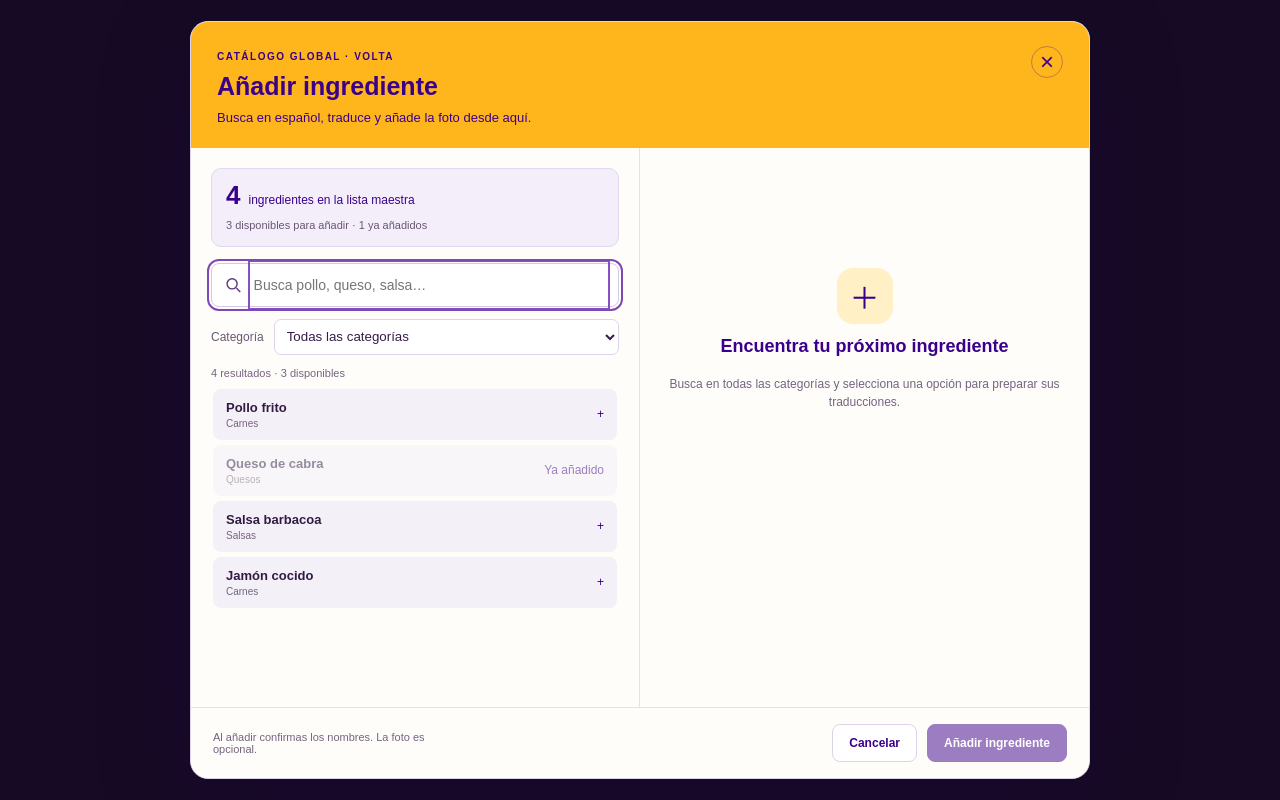
Test: an old translation response cannot overwrite a different ingredient
Step 1. Click the button "Pollo frito Carnes +" → (256, 407), box top-left (213, 389), bottom-right (617, 440)
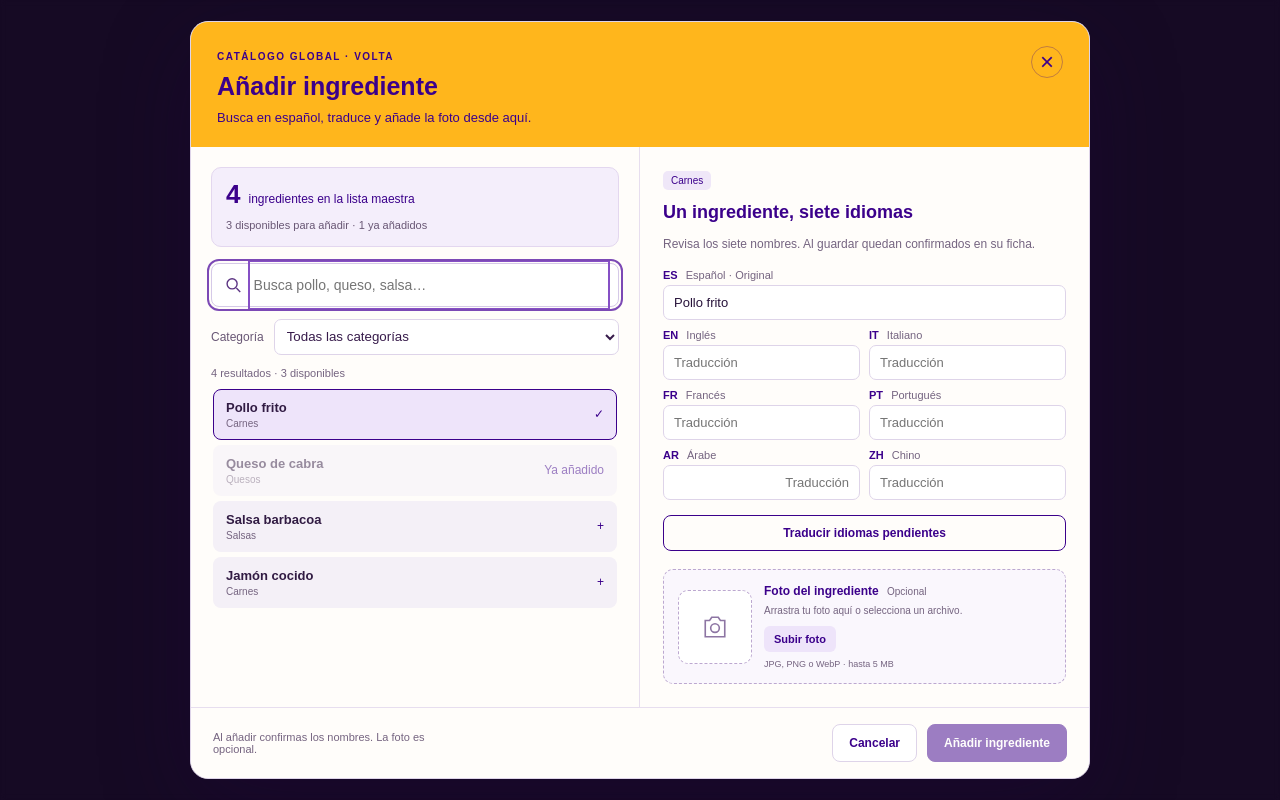
Step 2. Click the button "Traducir idiomas pendientes" → (864, 533), box top-left (663, 515), bottom-right (1066, 551)
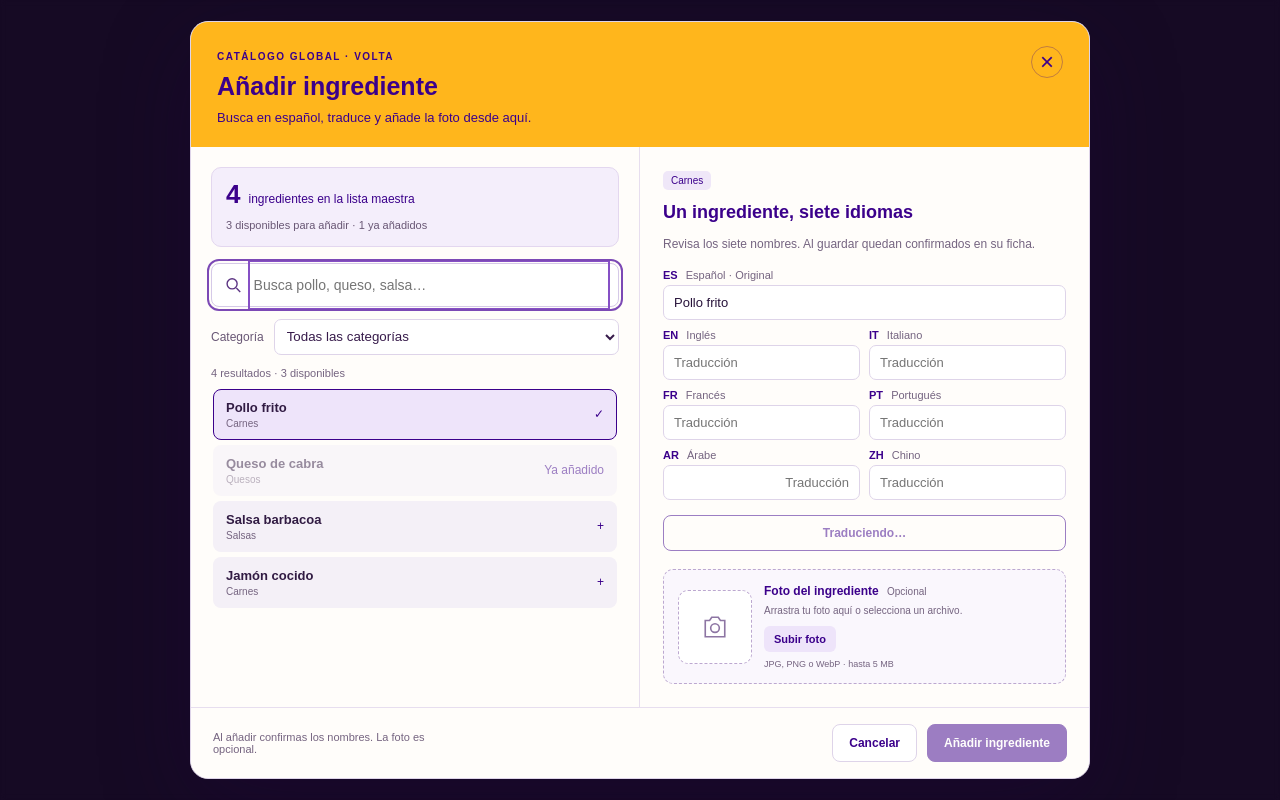
Step 3. Click the button "Salsa barbacoa Salsas +" → (274, 519), box top-left (213, 501), bottom-right (617, 552)
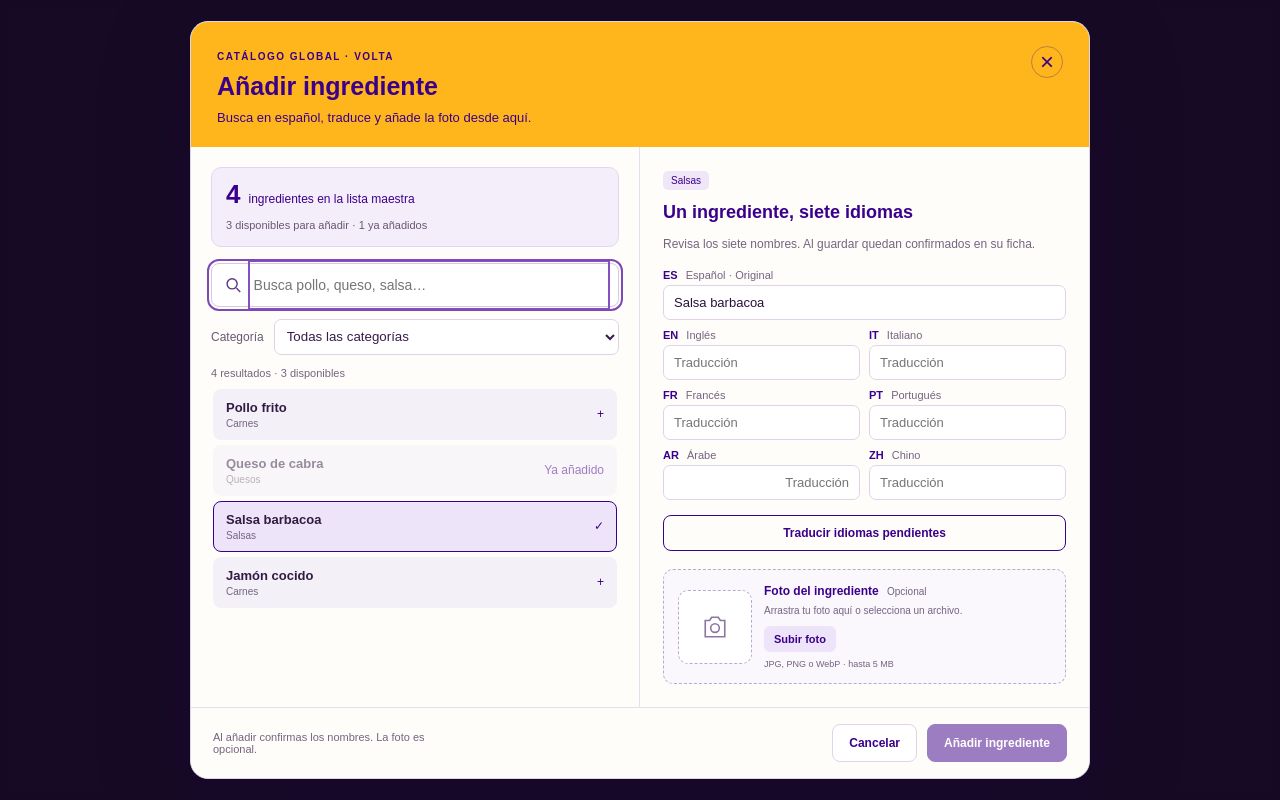
Expected: the field named "Nombre en inglés" is empty, top-left (663, 345), bottom-right (860, 380)
Expected: the field named "Nombre en español" holds "Salsa barbacoa", top-left (663, 285), bottom-right (1066, 320)
